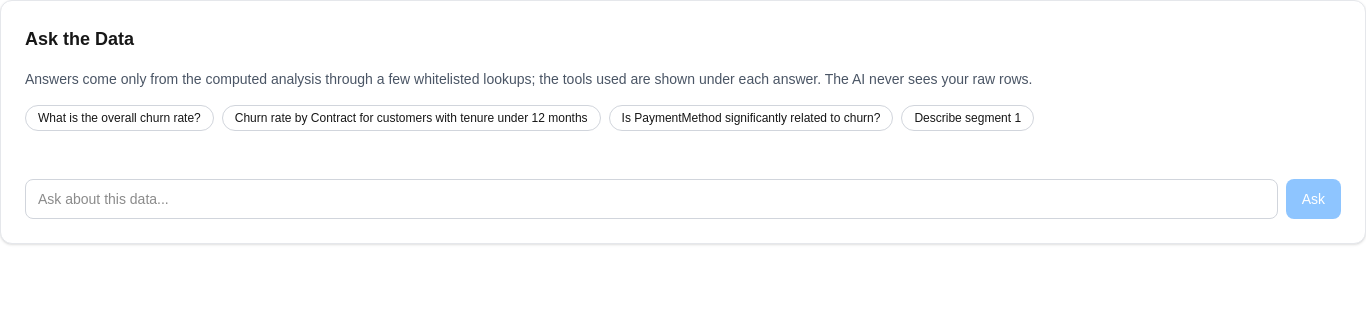
Scenario: ChatTab › sends a question and shows the answer with the tools used
Click the button "What is the overall churn rate?". click: (119, 118)
box: x1=25 y1=105 x2=214 y2=131
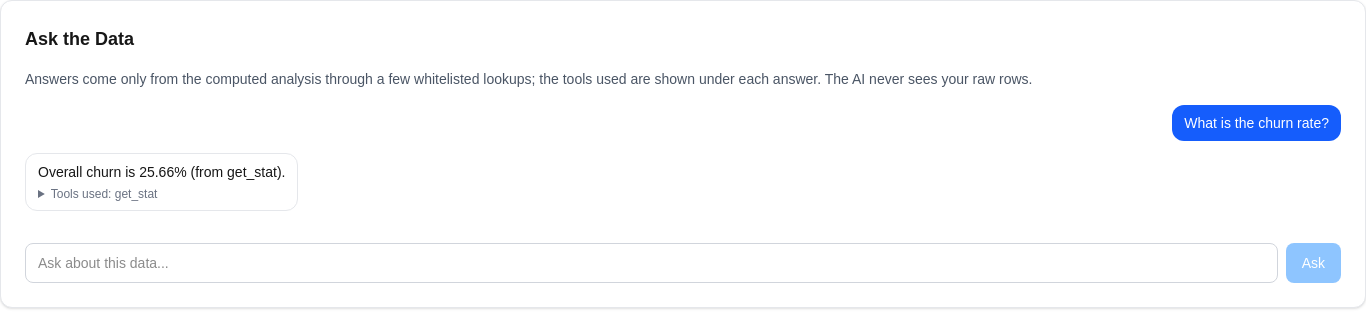
Expected: the text "Overall churn is 25.66% (from get_stat)." is shown, x1=38 y1=162 x2=285 y2=182
Expected: the heading "Tools used: get_stat" is shown, x1=51 y1=187 x2=158 y2=201
